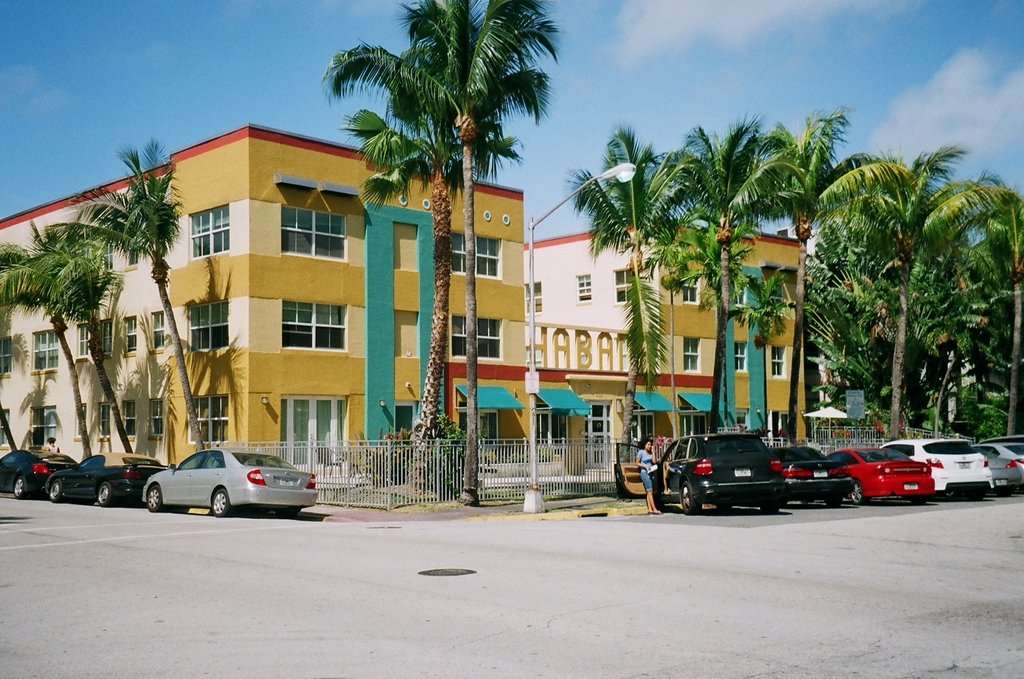mobil: (145, 442, 318, 521), (641, 435, 785, 519)
